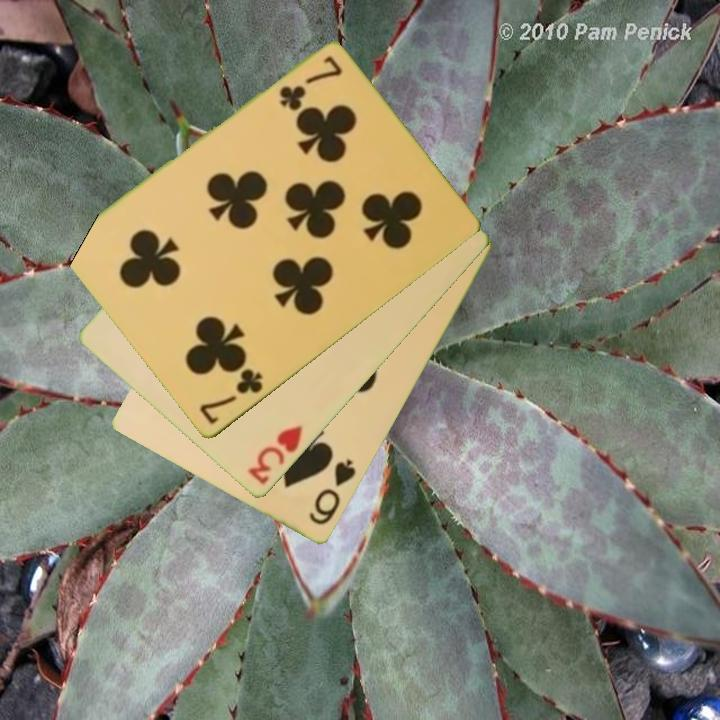3h: (244, 422, 306, 488)
6s: (305, 456, 360, 529)
7c: (196, 365, 266, 428), (275, 52, 344, 112)
